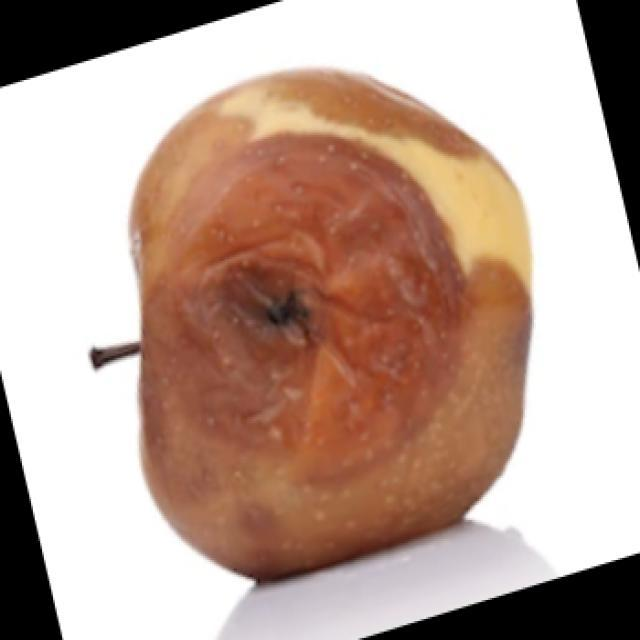Rotten: (110, 59, 538, 584)
